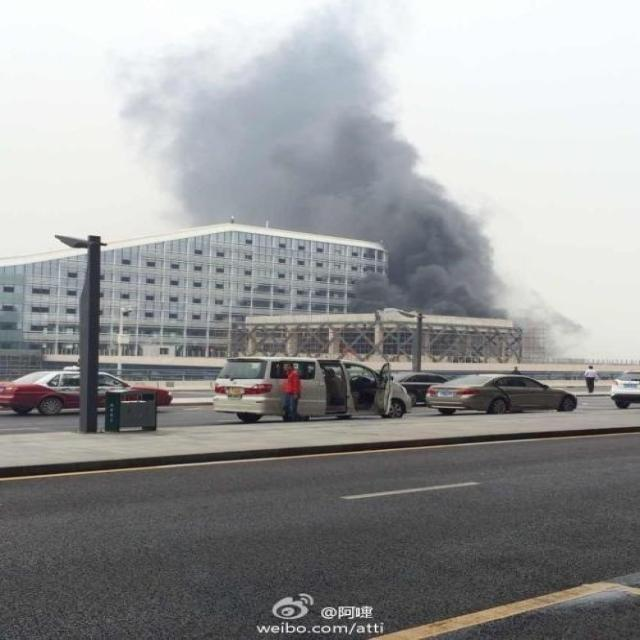Smoke: (113, 0, 614, 362)
